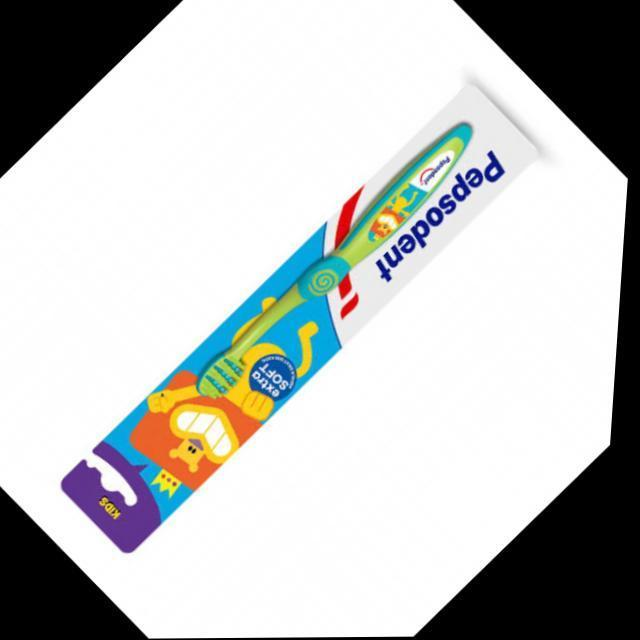toothbrush: (196, 111, 481, 406)
